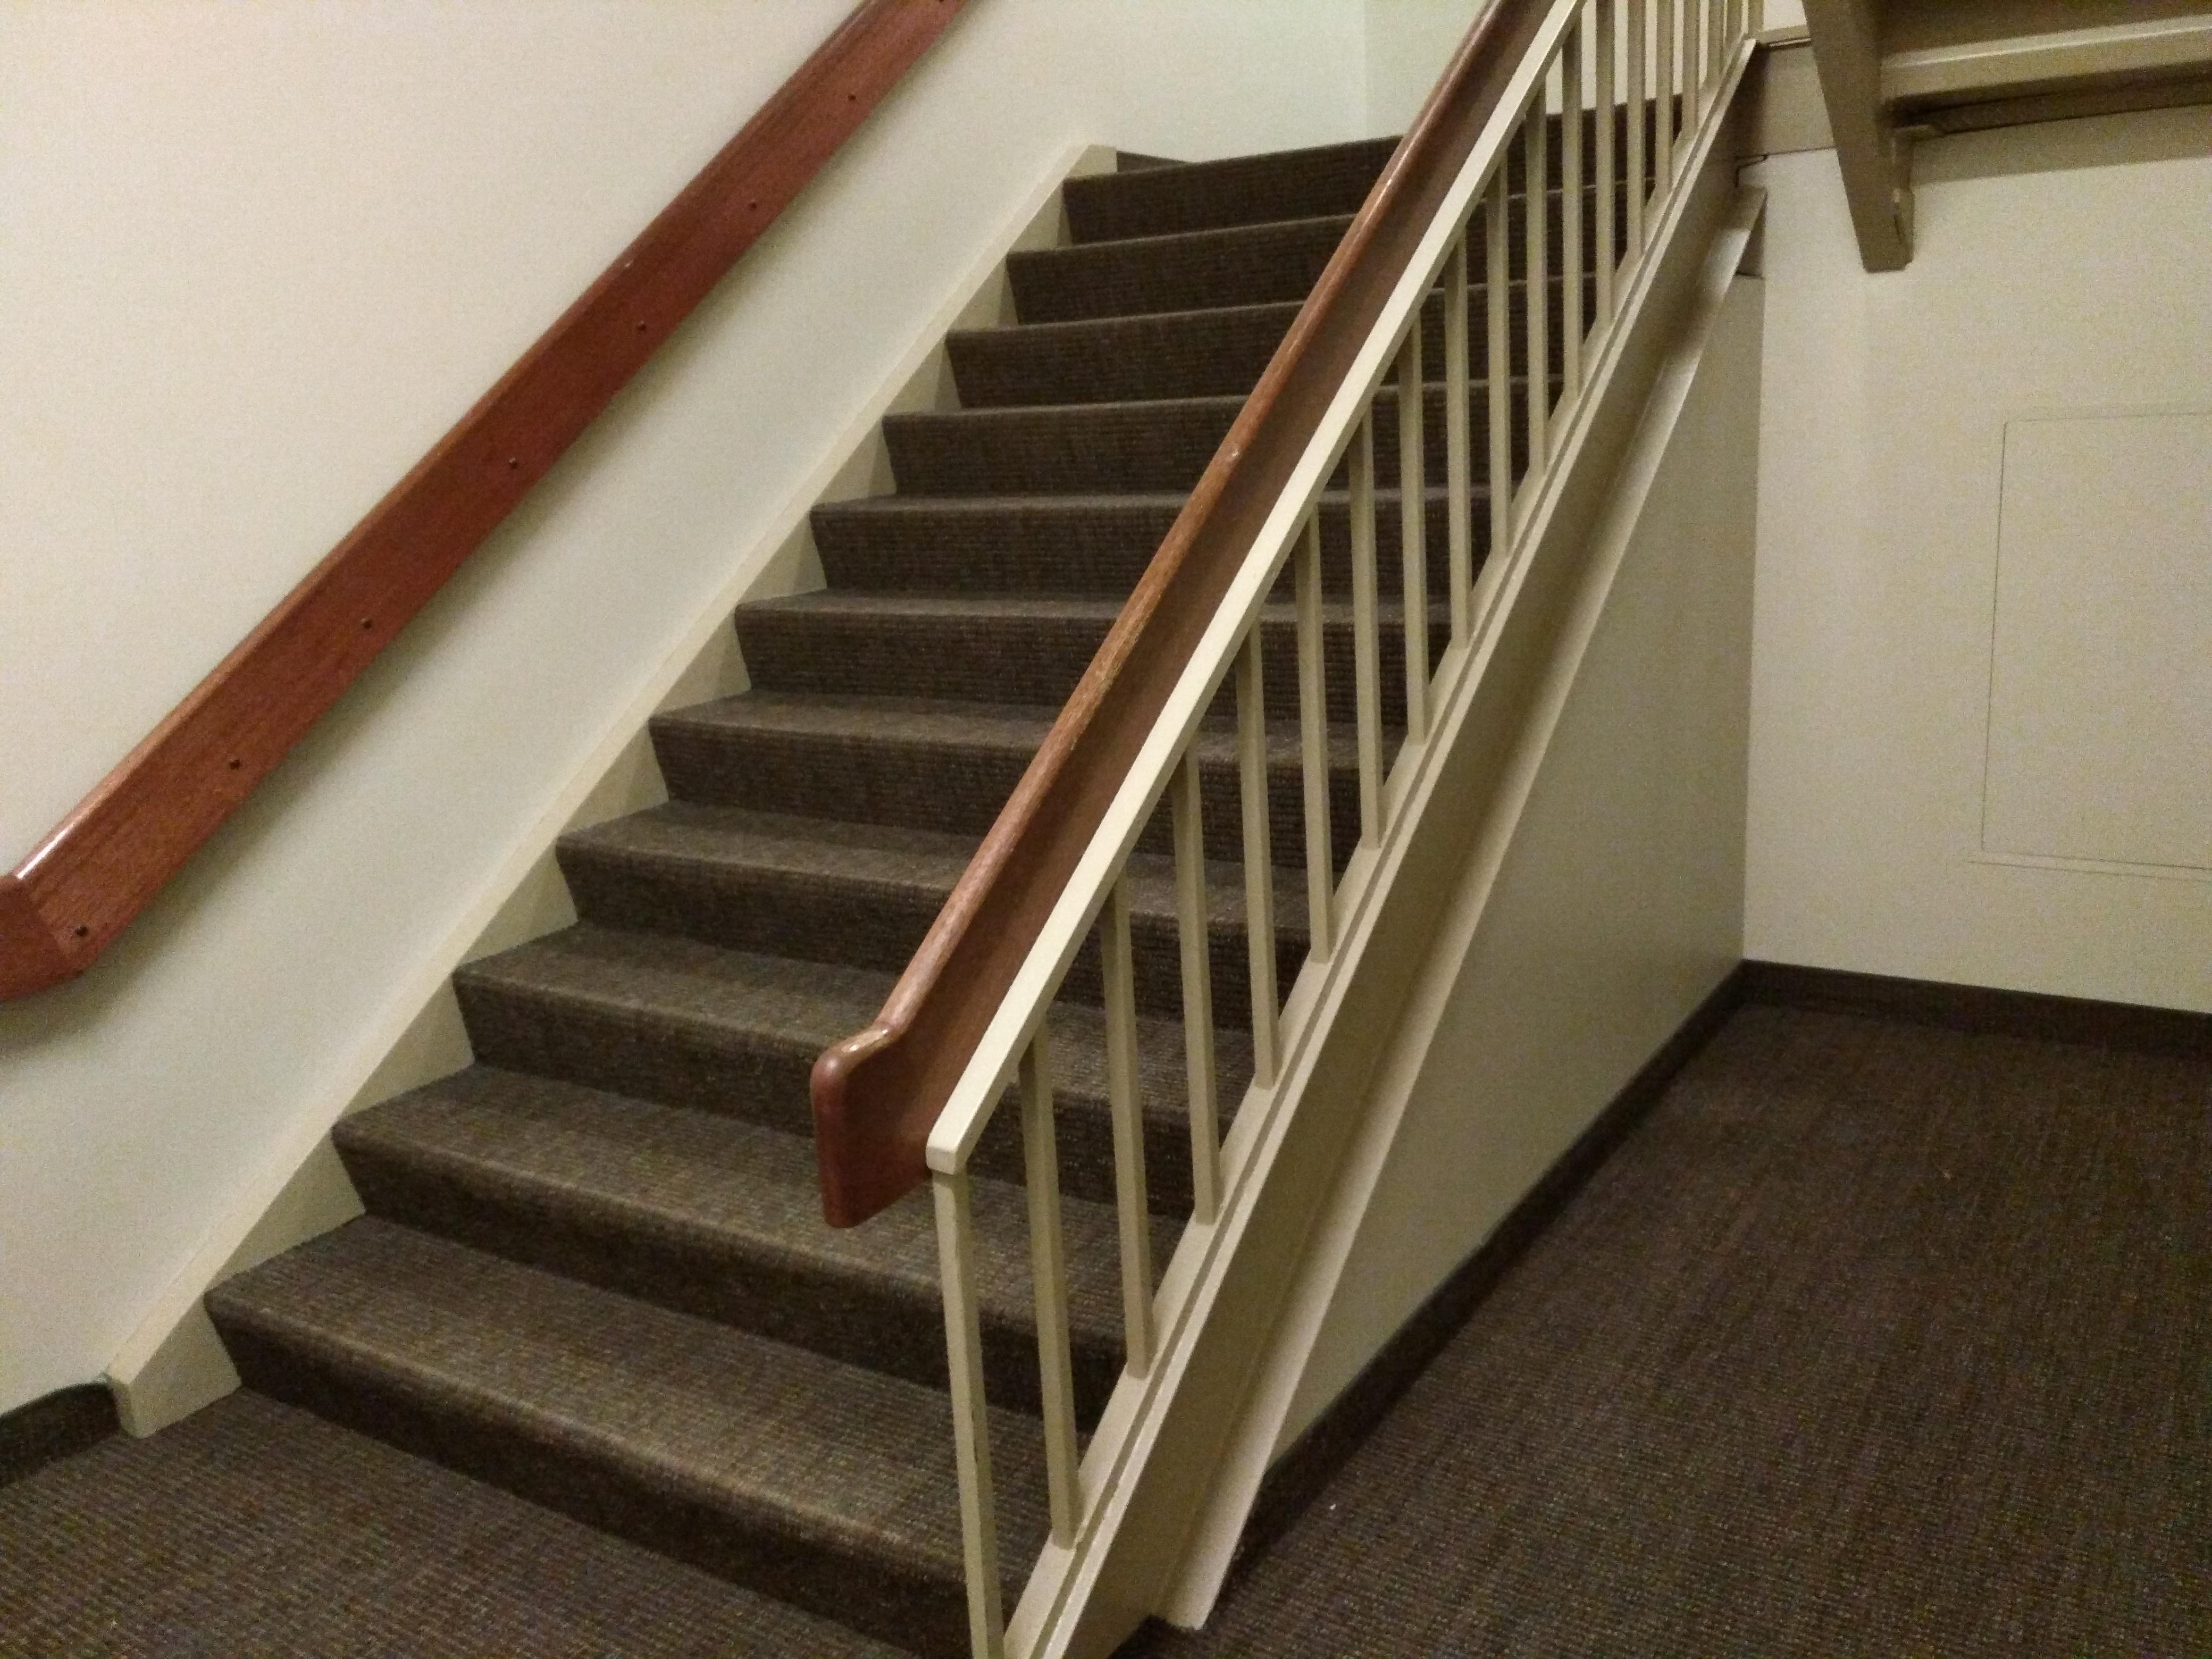stairs_up: (186, 73, 1787, 1600)
